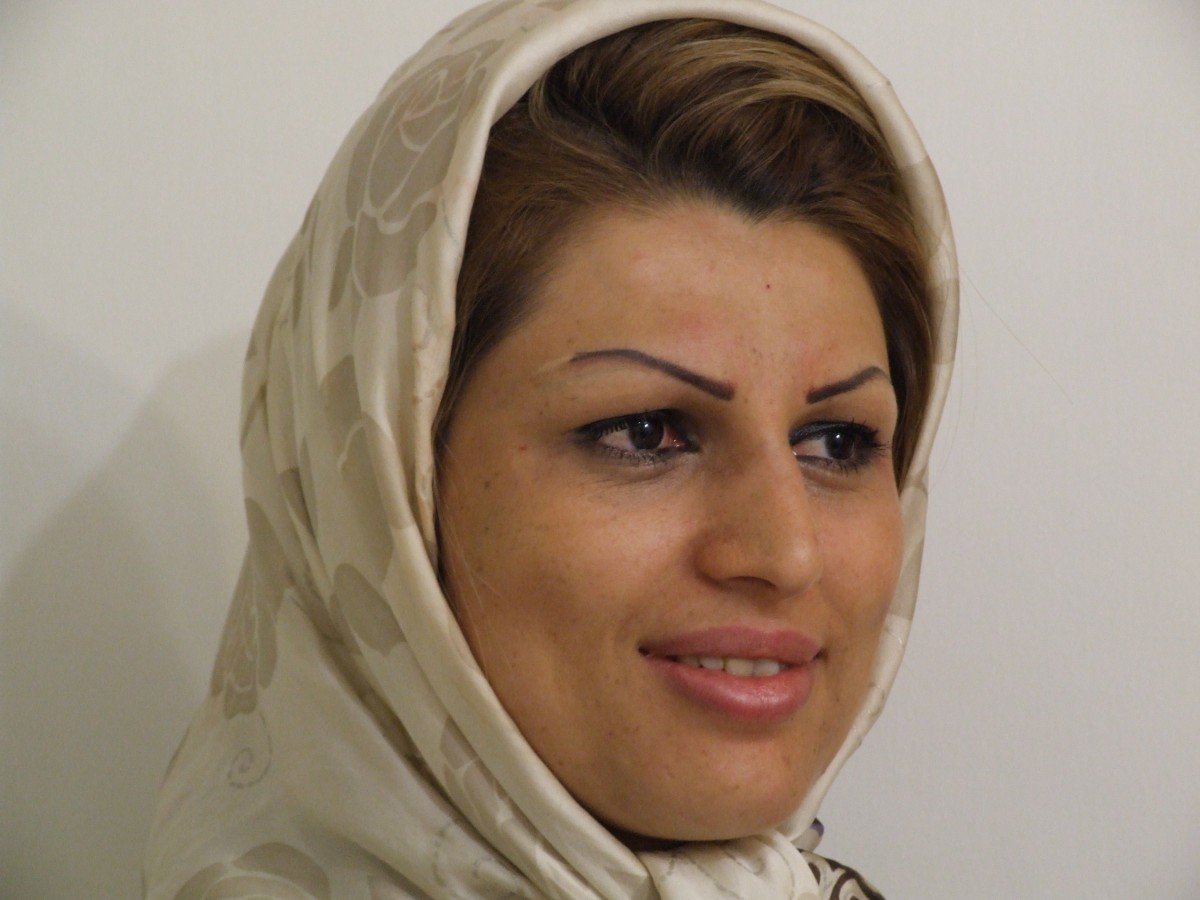neo: (738, 343, 785, 408), (588, 696, 616, 738), (471, 469, 524, 491), (754, 278, 788, 302), (534, 722, 554, 749), (829, 685, 850, 709), (776, 747, 797, 766)
occhiaia: (547, 444, 719, 510), (792, 456, 892, 516)
